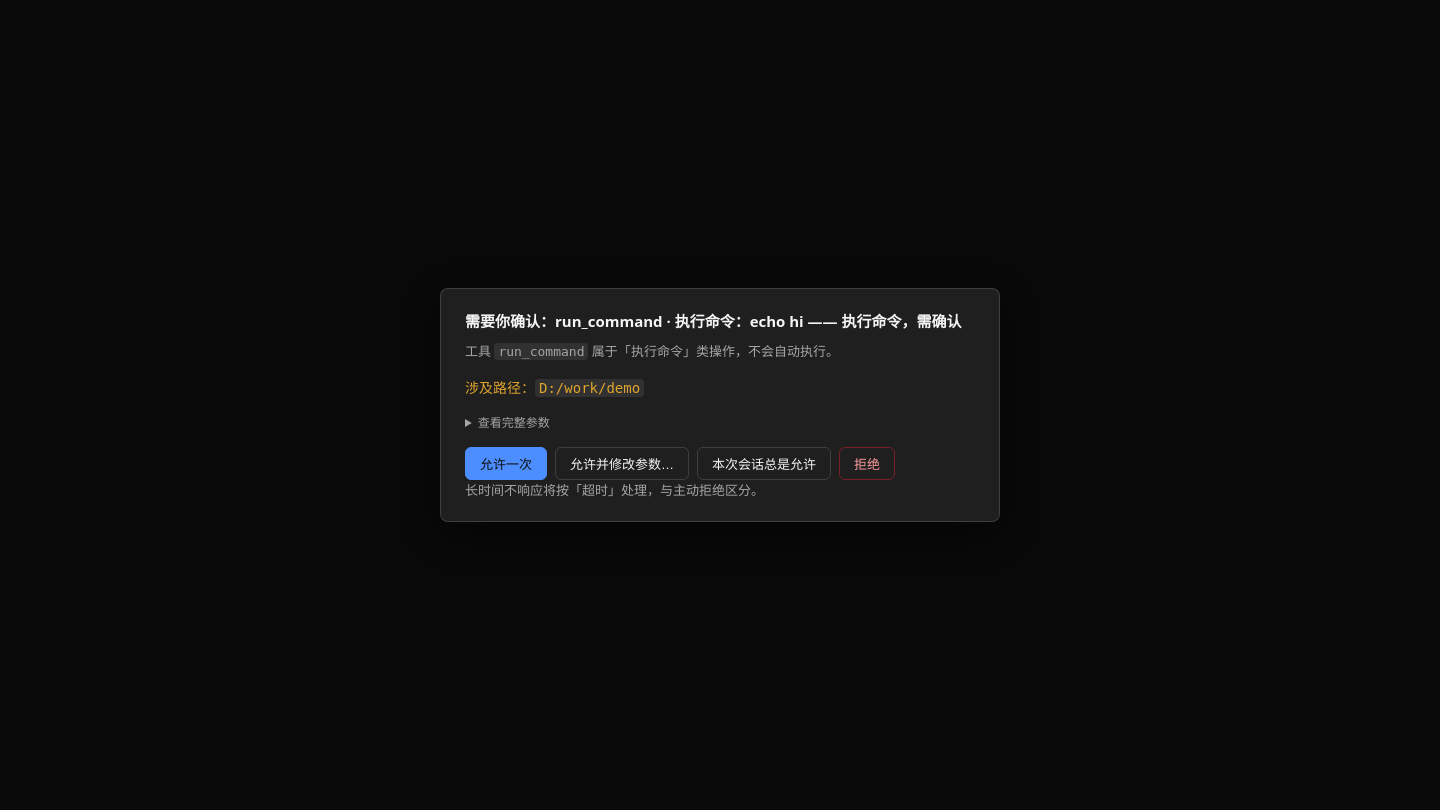
审批弹窗：内容看得见、决定传得出去 › 涉及路径单独列出来；完整参数能展开看到原文
Expected: the text "涉及路径：" shows "D:/work/demo", [539,380,640,396]
Click the heading "查看完整参数": (514,423) [478,414,550,431]
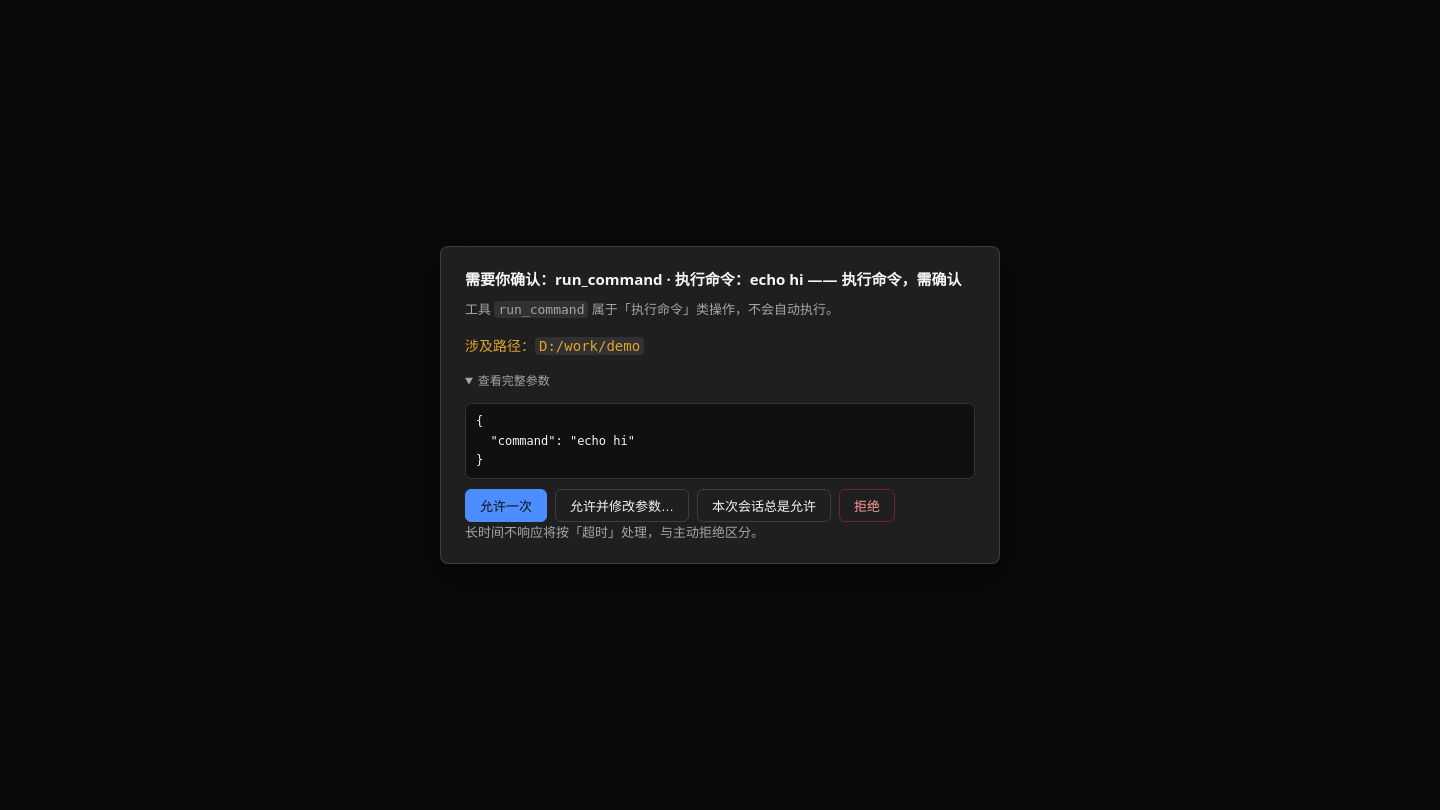
Expected: the text "{ \"command\": \"echo hi\" }" is shown, [465,403,975,479]
